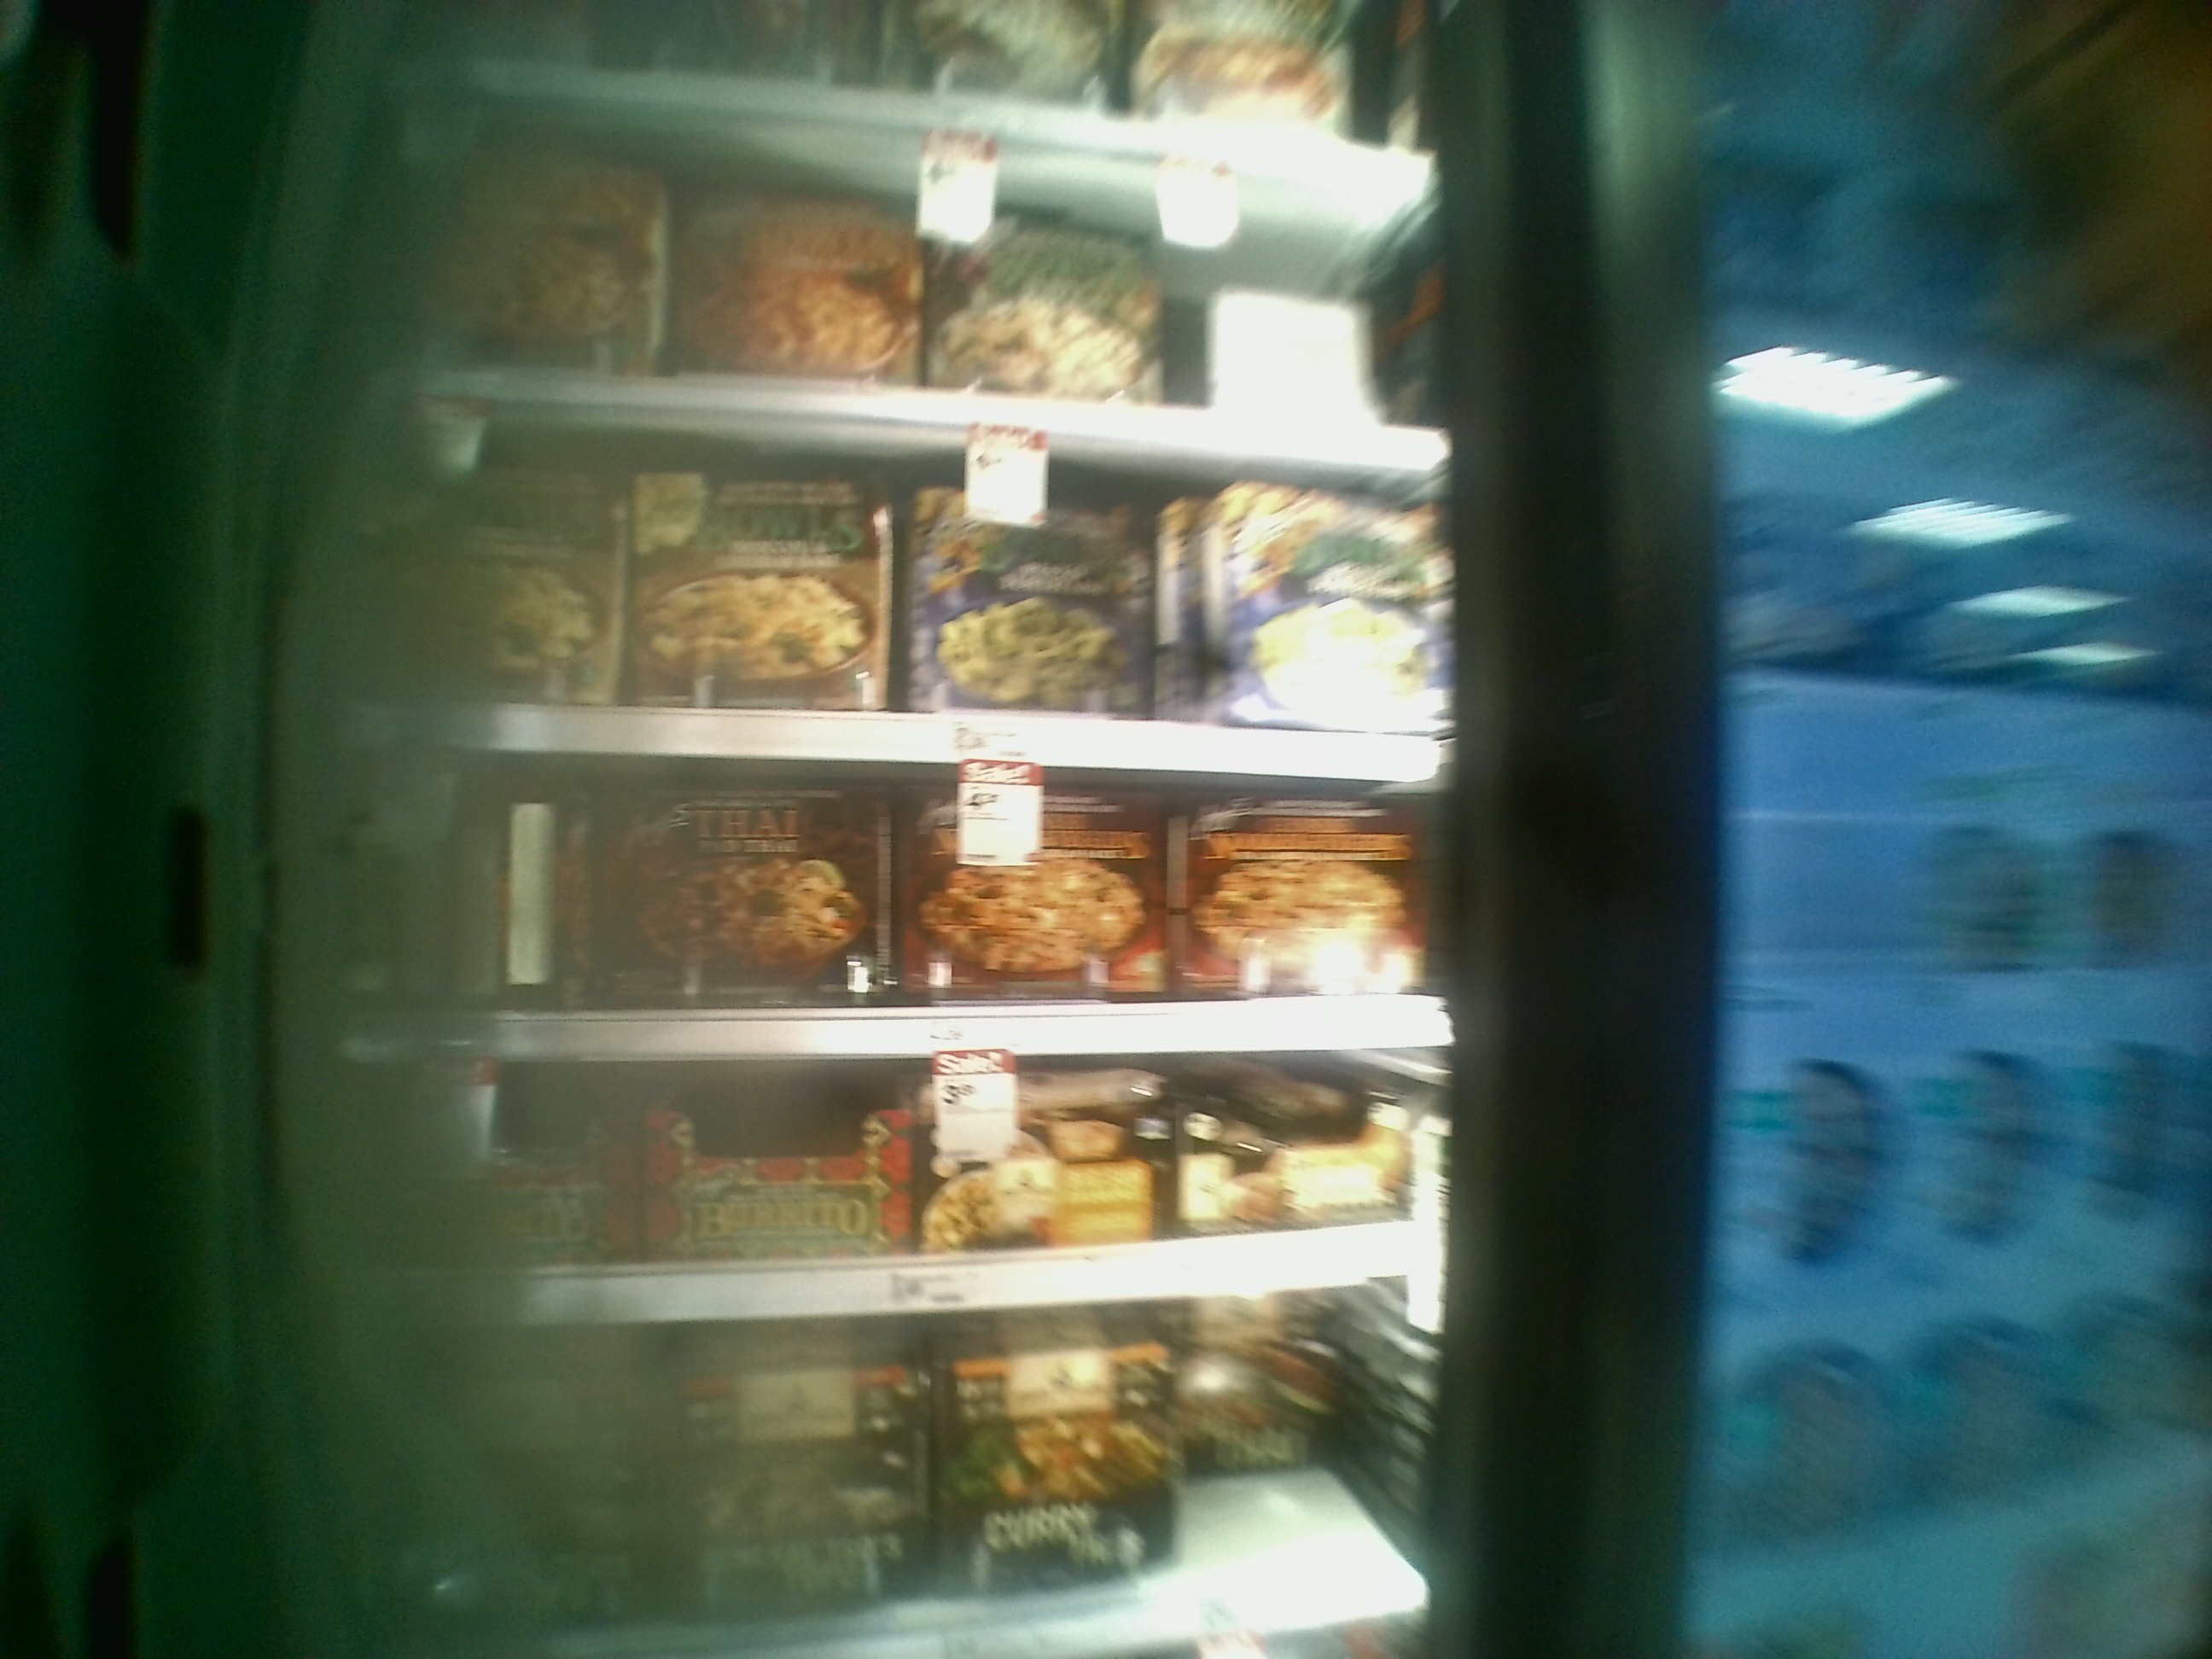frozen-food-shelf: (301, 437, 1465, 796), (296, 796, 1475, 1065), (294, 1068, 1475, 1324)
